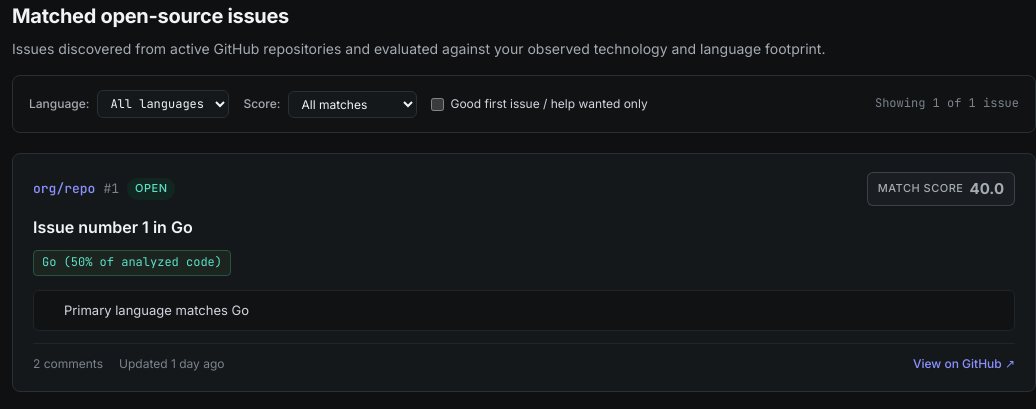
Test: MatchedIssuesSection component › shows filter empty state with reset button when no items match active filters
The image size is (1036, 409).
// Require 75+ score on a 40.0 match
Select "75+ High Match" in the dropdown labelled "Score:" at (353, 104), box [288,90,418,118]
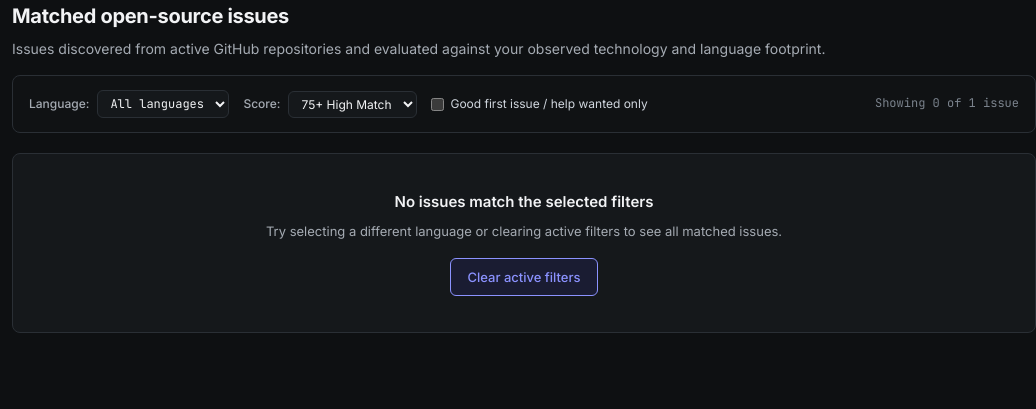
Expected: the text "No issues match the selected filters" is shown, [394,192,653,211]
Expected: the text "Showing 0 of 1 issue" is shown, [875,94,1019,114]
// Reset filters
Click the button "Clear active filters" at (524, 277), box [450,258,598,296]
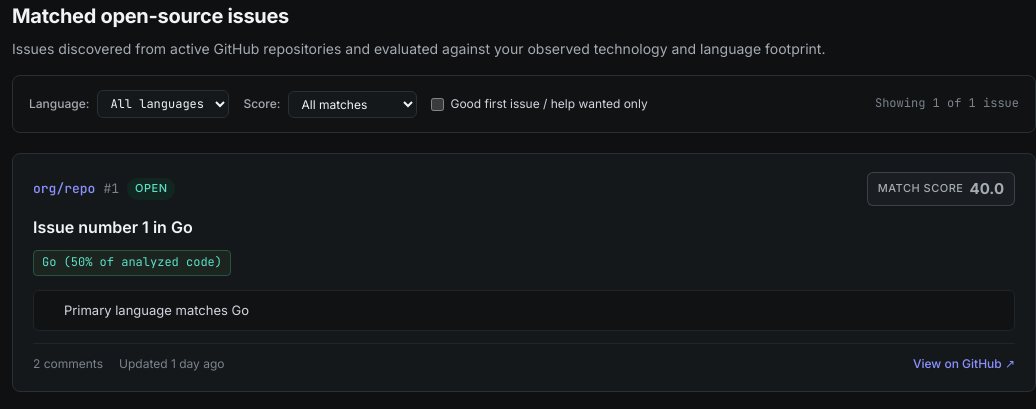
Expected: the text "Showing 1 of 1 issue" is shown, [875,94,1019,114]
Expected: the link "Issue number 1 in Go" is shown, [33,217,193,237]
